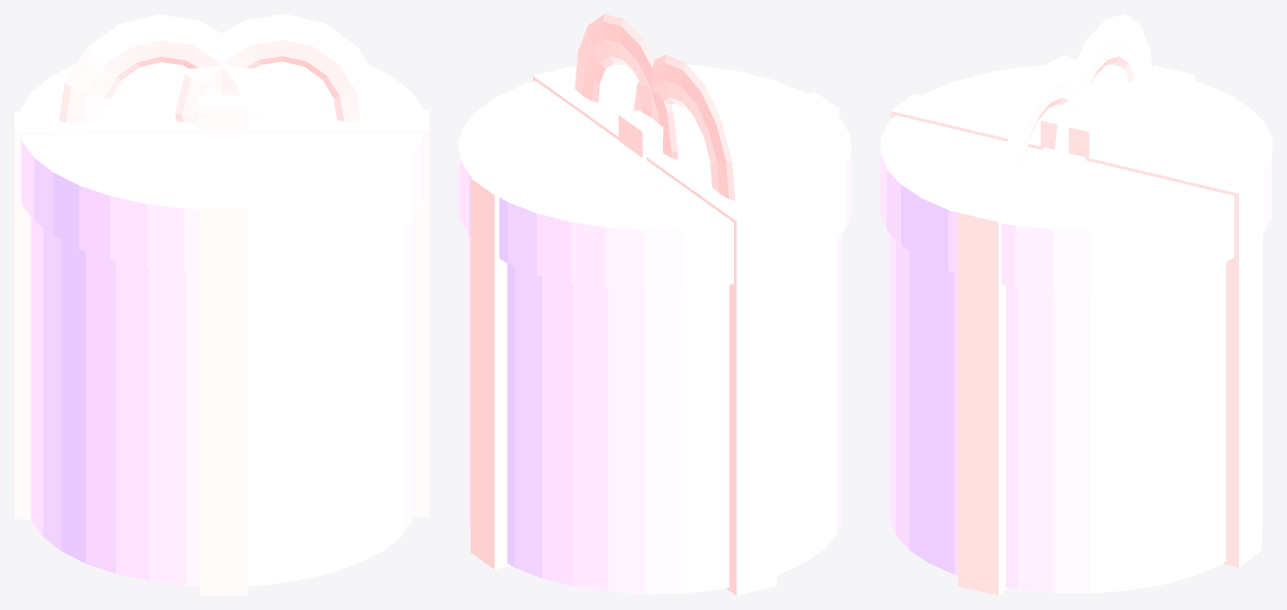
File: Tmpl_Round_Root_217.glb
3 views of the same model, side by side, from view 1: azimuth 30°, elevation 25°; view 2: azimuth 150°, elevation 25°; view 3: azimuth 270°, elevation 25° (orthographic). The views are drawn at different scales.
Parts seen in each view (by area): view 1: Tmpl_Round_Base.215, Tmpl_Round_Lid.215, Tmpl_Round_Ribbon_Y.215, Tmpl_Round_Ribbon_X.215, Tmpl_Round_BowR.215, Tmpl_Round_BowL.215, Tmpl_Round_BowKnot.215; view 2: Tmpl_Round_Base.215, Tmpl_Round_Lid.215, Tmpl_Round_Ribbon_X.215, Tmpl_Round_Ribbon_Y.215, Tmpl_Round_BowR.215, Tmpl_Round_BowL.215, Tmpl_Round_BowKnot.215; view 3: Tmpl_Round_Base.215, Tmpl_Round_Lid.215, Tmpl_Round_Ribbon_X.215, Tmpl_Round_Ribbon_Y.215, Tmpl_Round_BowL.215, Tmpl_Round_BowR.215, Tmpl_Round_BowKnot.215.
Part boxes in pixels (<box>): Tmpl_Round_Base.215: <box>30,215,414,586</box>; Tmpl_Round_Lid.215: <box>20,61,423,272</box>; Tmpl_Round_Ribbon_Y.215: <box>198,33,248,595</box>; Tmpl_Round_Ribbon_X.215: <box>14,109,429,519</box>; Tmpl_Round_BowR.215: <box>175,14,385,122</box>; Tmpl_Round_BowL.215: <box>59,14,268,123</box>; Tmpl_Round_BowKnot.215: <box>197,95,246,132</box>; Tmpl_Round_Base.215: <box>467,233,842,594</box>; Tmpl_Round_Lid.215: <box>458,64,851,291</box>; Tmpl_Round_Ribbon_X.215: <box>533,66,776,595</box>; Tmpl_Round_Ribbon_Y.215: <box>470,92,839,569</box>; Tmpl_Round_BowR.215: <box>574,14,677,159</box>; Tmpl_Round_BowL.215: <box>633,55,735,200</box>; Tmpl_Round_BowKnot.215: <box>618,106,691,160</box>; Tmpl_Round_Base.215: <box>889,234,1263,593</box>; Tmpl_Round_Lid.215: <box>880,65,1272,290</box>; Tmpl_Round_Ribbon_X.215: <box>958,65,1194,595</box>; Tmpl_Round_Ribbon_Y.215: <box>891,94,1261,567</box>; Tmpl_Round_BowL.215: <box>1054,14,1153,159</box>; Tmpl_Round_BowR.215: <box>999,55,1097,201</box>; Tmpl_Round_BowKnot.215: <box>1040,105,1112,160</box>.
Bounding box in the file's own units: 0.8798 × 1.18 × 0.8798.
